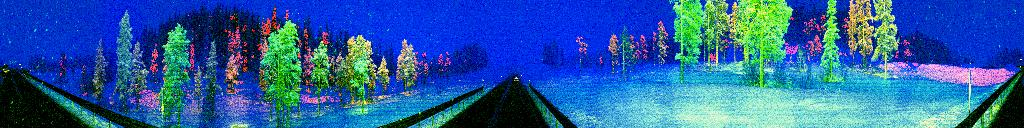pole: (967, 67, 973, 114), (159, 84, 165, 128)
